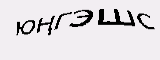Г: (28, 7, 47, 34)
Д: (104, 19, 115, 40)
И: (117, 19, 129, 39)
М: (49, 9, 76, 34)
Щ: (81, 16, 102, 38)
